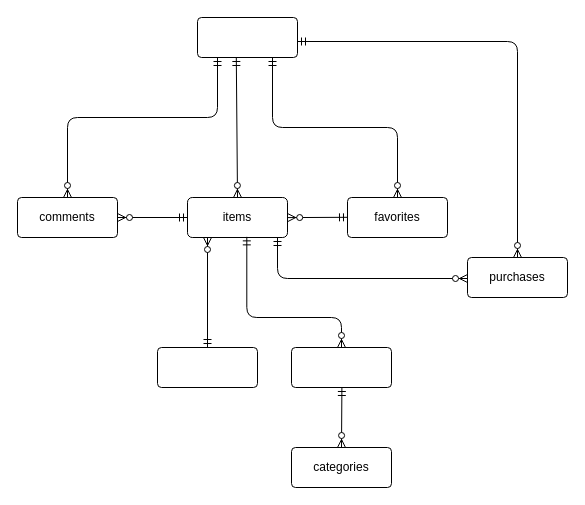
Image size: 585x505. Some labels were removed from this diagram. Each missing label, with the centre of its shape:
category_item: the point at 341,367
statuses: the point at 207,367
users: the point at 247,37
